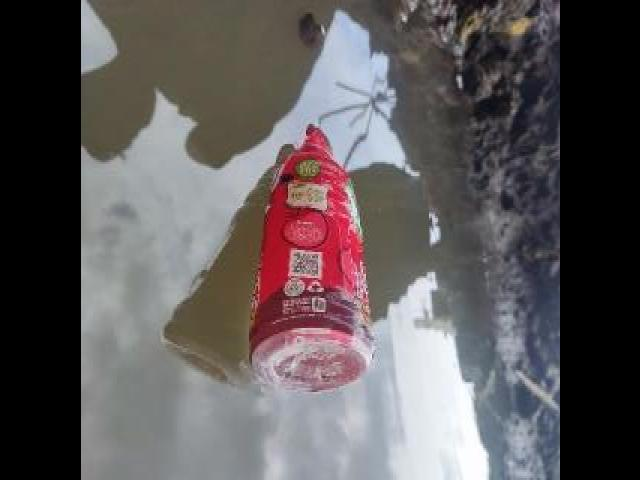Bottle: (242, 103, 380, 402)
